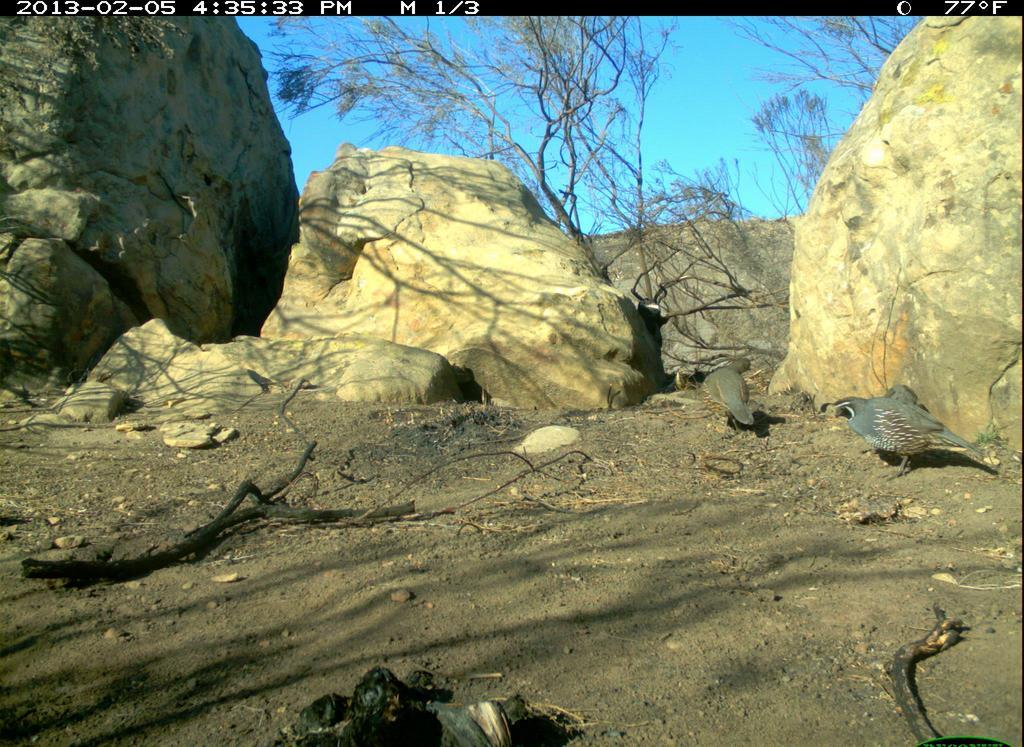bird: (813, 387, 987, 484), (689, 344, 783, 442)
